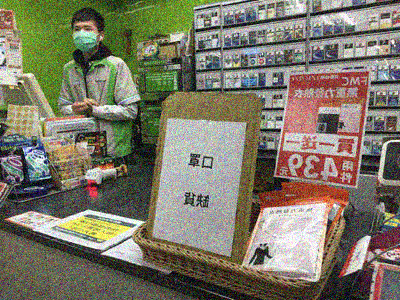with_mask: (72, 24, 97, 53)
